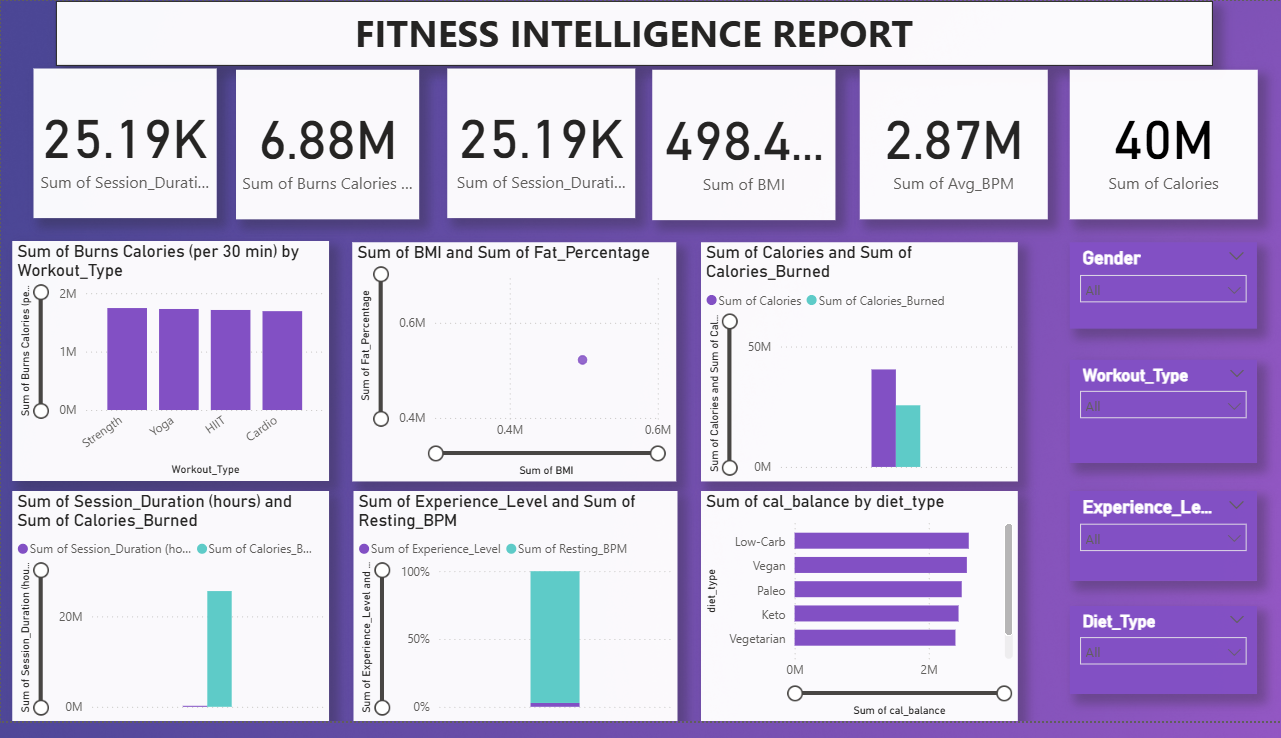

The page's visual inventory and layout, read from the dashboard file:
{"tool":"powerbi","page":{"name":"Fitness Intelligence","canvas":[1280,720],"ordinal":0},"visuals":[{"type":"textbox","box":[55.3,0,1156.5,64.7],"z":0},{"type":"card","fields":{"Values":["Final_data.Calories Balance"]},"box":[667,69,188.3,149.5],"z":1000},{"type":"card","fields":{"Values":["Final_data.Efficiency Score"]},"box":[1068.5,69.4,188.8,149.6],"z":2000},{"type":"card","fields":{"Values":["Final_data.Avg Heart Rate"]},"box":[872.6,69,184,149.5],"z":4000},{"type":"card","fields":{"Values":["Final_data.Total Calories Intake"]},"box":[467.2,69,184,149.5],"z":5000},{"type":"card","fields":{"Values":["Final_data.Total Calories Burned"]},"box":[271.7,69,182.6,149.5],"z":6000},{"type":"barChart","title":"Calories Burned vs Intake","fields":{"Category":["Final_data.Workout_Type"],"Y":["Final_data.Total Calories Burned","Final_data.Total Calories Intake"]},"box":[10.4,239.8,331.5,239.8],"z":7000},{"type":"columnChart","title":"Calories Burned by Exercise","fields":{"Category":["Final_data.Name of Exercise"],"Y":["Final_data.Total Calories Burned"]},"box":[10.4,489.9,331.5,229.4],"z":8000},{"type":"lineChart","title":"Heart Rate vs Workout Intensity","fields":{"Category":["Final_data.Workout_Type"],"Y":["Final_data.Avg Heart Rate"]},"box":[352.3,241.3,337.5,238.3],"z":9000},{"type":"donutChart","title":"Nutritional Intake","fields":{"Y":["Final_data.Total Carbs","Final_data.Total Protein","Final_data.Total Fats"]},"box":[352.3,489.9,337.5,229.4],"z":10000},{"type":"pieChart","title":"Nutrition Breakdown","fields":{"Category":["Final_data.diet_type"],"Y":["Final_data.Total Calories Intake"]},"box":[700.1,241.3,346.3,238.3],"z":11000},{"type":"barChart","title":"Workout Frequency vs Calories","fields":{"Y":["Count(Final_data.Workout_Frequency (days/week))"],"Category":["Final_data.Workout_Type"]},"box":[700.1,489.9,346.3,229.4],"z":12000},{"type":"slicer","fields":{"Values":["Final_data.Gender"]},"box":[1068.5,241.4,187.1,86.1],"z":13000},{"type":"slicer","title":"Workout_Type","fields":{"Values":["Final_data.Workout_Type"]},"box":[1068.5,359.3,187.1,102.9],"z":14000},{"type":"slicer","fields":{"Values":["Final_data.Experience_Level"]},"box":[1068.5,490.3,187.1,89.8],"z":15000},{"type":"slicer","title":"Diet_type","fields":{"Values":["Final_data.diet_type"]},"box":[1068.5,604.4,187.1,88],"z":16000},{"type":"actionButton","title":"PAGE 2","box":[55,68.8,202.9,149.6],"z":16001}]}

Visuals, with their boxes in screenshot pixels (x1, y1, x2, y2), scaled from the page's 1280x720 canvas onto the 1281x738 screenshot:
textbox: [x1=55, y1=0, x2=1213, y2=66]
card - Final_data.Calories Balance: [x1=668, y1=71, x2=856, y2=224]
card - Final_data.Efficiency Score: [x1=1069, y1=71, x2=1258, y2=224]
card - Final_data.Avg Heart Rate: [x1=873, y1=71, x2=1057, y2=224]
card - Final_data.Total Calories Intake: [x1=468, y1=71, x2=652, y2=224]
card - Final_data.Total Calories Burned: [x1=272, y1=71, x2=455, y2=224]
"Calories Burned vs Intake" barChart: [x1=10, y1=246, x2=342, y2=492]
"Calories Burned by Exercise" columnChart: [x1=10, y1=502, x2=342, y2=737]
"Heart Rate vs Workout Intensity" lineChart: [x1=353, y1=247, x2=690, y2=492]
"Nutritional Intake" donutChart: [x1=353, y1=502, x2=690, y2=737]
"Nutrition Breakdown" pieChart: [x1=701, y1=247, x2=1047, y2=492]
"Workout Frequency vs Calories" barChart: [x1=701, y1=502, x2=1047, y2=737]
slicer - Final_data.Gender: [x1=1069, y1=247, x2=1257, y2=336]
"Workout_Type" slicer: [x1=1069, y1=368, x2=1257, y2=474]
slicer - Final_data.Experience_Level: [x1=1069, y1=503, x2=1257, y2=595]
"Diet_type" slicer: [x1=1069, y1=620, x2=1257, y2=710]
"PAGE 2" actionButton: [x1=55, y1=71, x2=258, y2=224]
